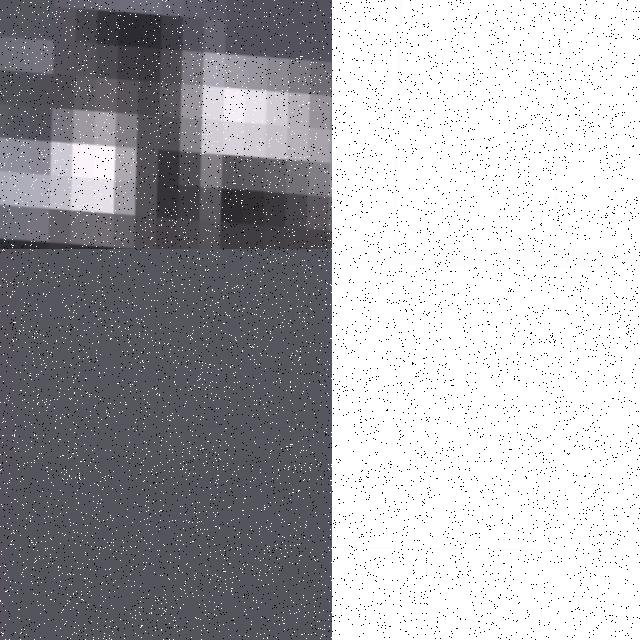drone: (0, 0, 332, 249), (332, 0, 640, 249)
